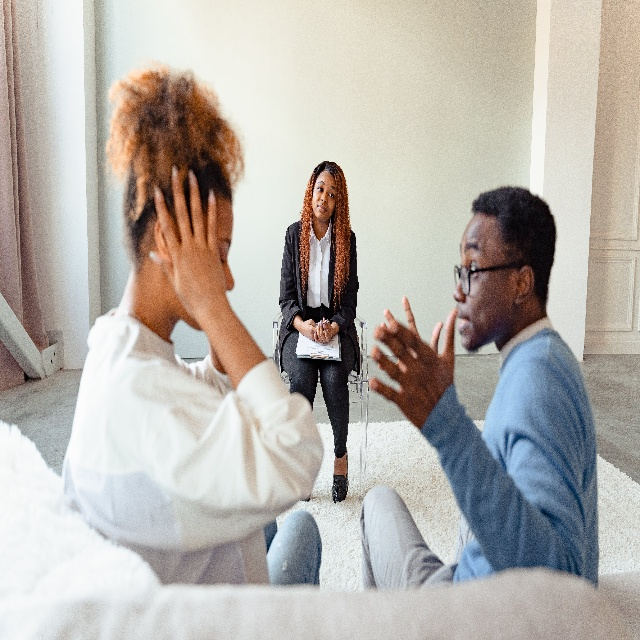Gafas: (453, 261, 523, 295)
Sin_guantes: (148, 164, 226, 322), (367, 309, 458, 429), (381, 294, 444, 354), (314, 317, 332, 344), (302, 319, 318, 341)
